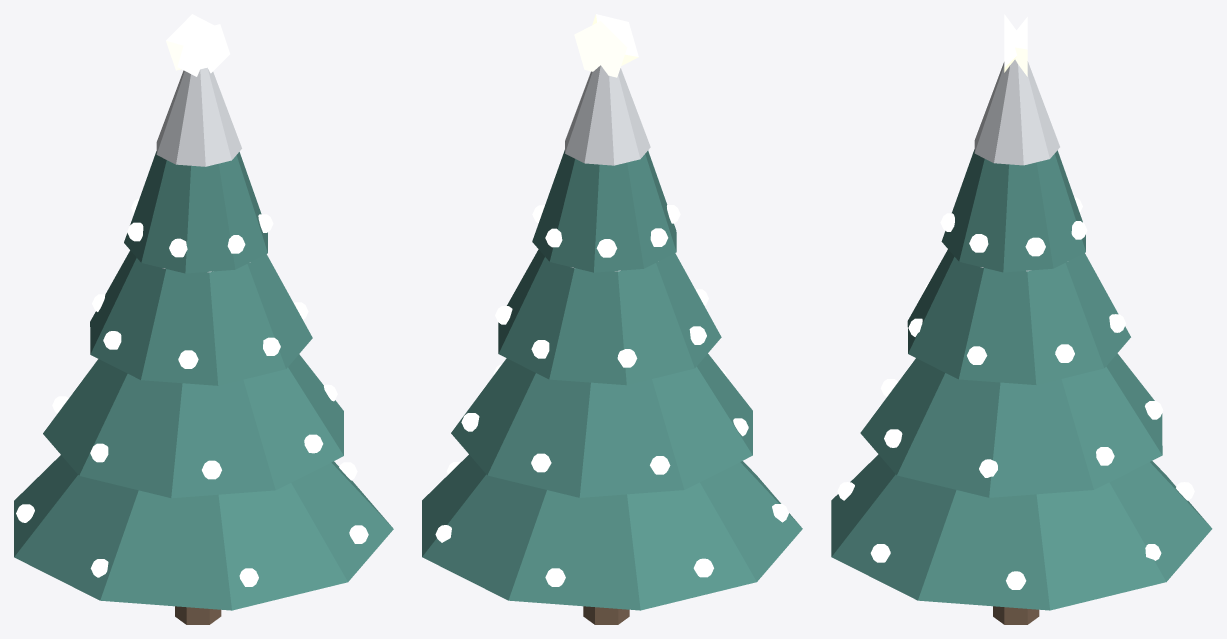
File: pine_lights.glb
3 renders of one model, left to right at view 1: azimuth 30°, elevation 25°; view 2: azimuth 150°, elevation 25°; view 3: azimuth 270°, elevation 25°, orthographic.
Visible parts, largest first — view 1: pine_lights_mesh; view 2: pine_lights_mesh; view 3: pine_lights_mesh.
Boxes of the visible parts, x1,y1,x2,y2 form: pine_lights_mesh: (14, 14, 393, 624); pine_lights_mesh: (422, 14, 802, 624); pine_lights_mesh: (831, 14, 1212, 624).
Bounding box in the file's own units: 3 × 5.13 × 2.95.
